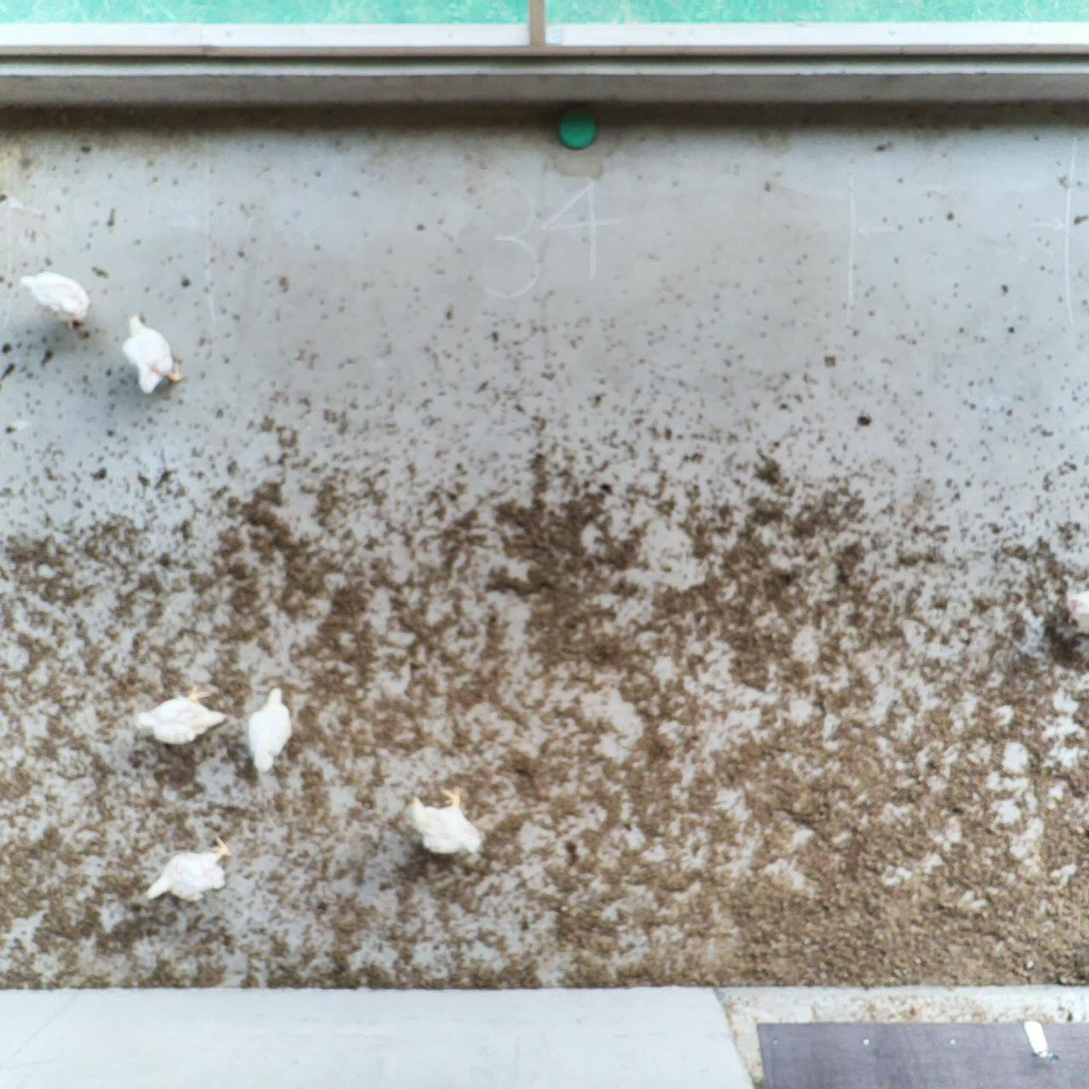chicken: (402, 779, 497, 862), (125, 687, 223, 750), (119, 311, 187, 399), (145, 842, 228, 904), (243, 672, 292, 777), (15, 265, 92, 330)
